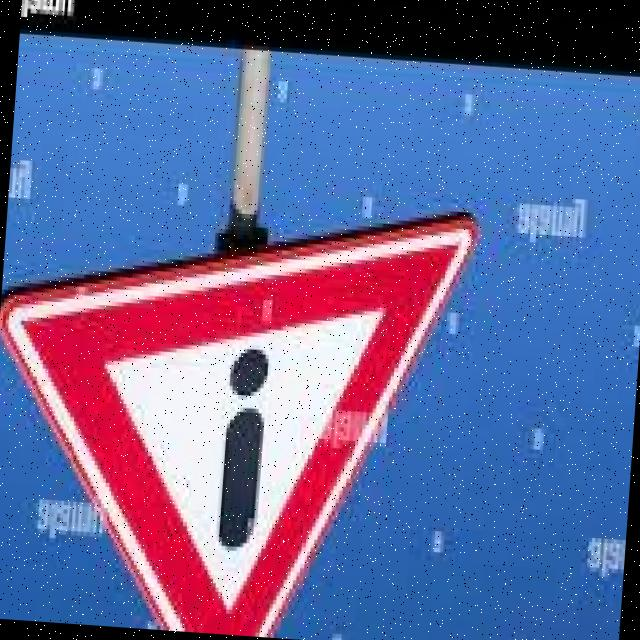warning: (0, 172, 491, 640)
